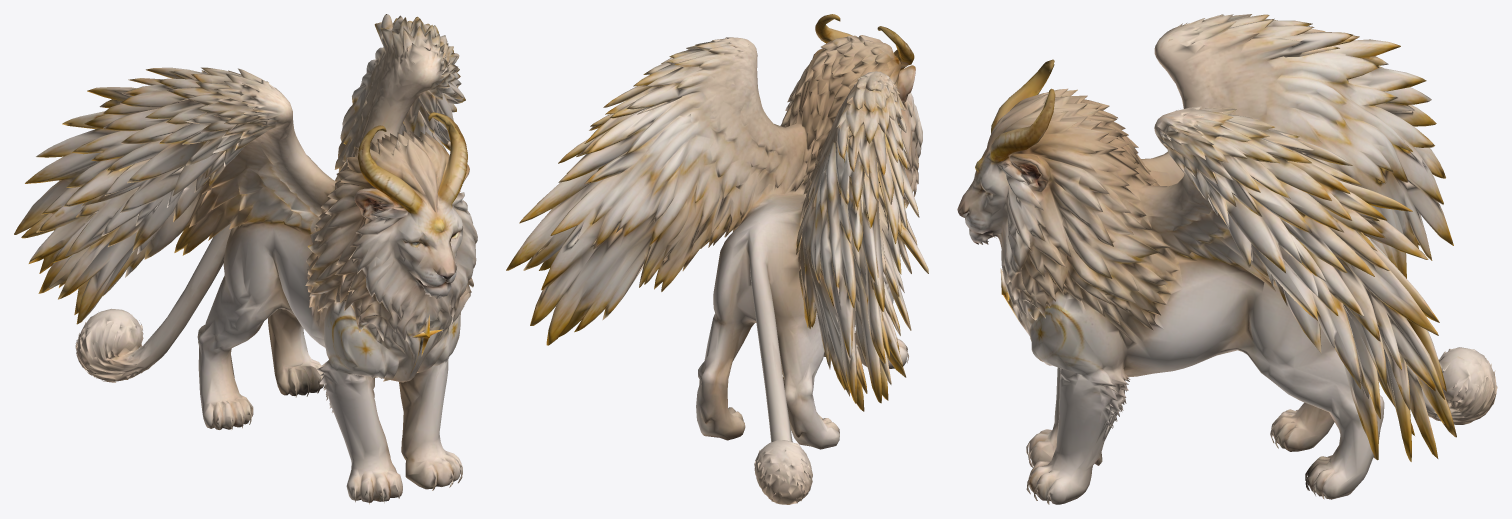
The model's file is prepared-replacement-source.glb.
The picture shows the model from 3 angles, left to right: view 1: azimuth 30°, elevation 25°; view 2: azimuth 150°, elevation 25°; view 3: azimuth 270°, elevation 25°; orthographic projection. The views are drawn at different scales.
Parts seen in each view (by area): view 1: node_0; view 2: node_0; view 3: node_0.
Part boxes in pixels (x1=…): node_0: x1=14, y1=14, x2=477, y2=504; node_0: x1=506, y1=14, x2=928, y2=504; node_0: x1=957, y1=14, x2=1497, y2=504.
Size of the model in its own units: 0.8727 by 0.7469 by 0.887.
Materials: 1 (1 with a texture image).
